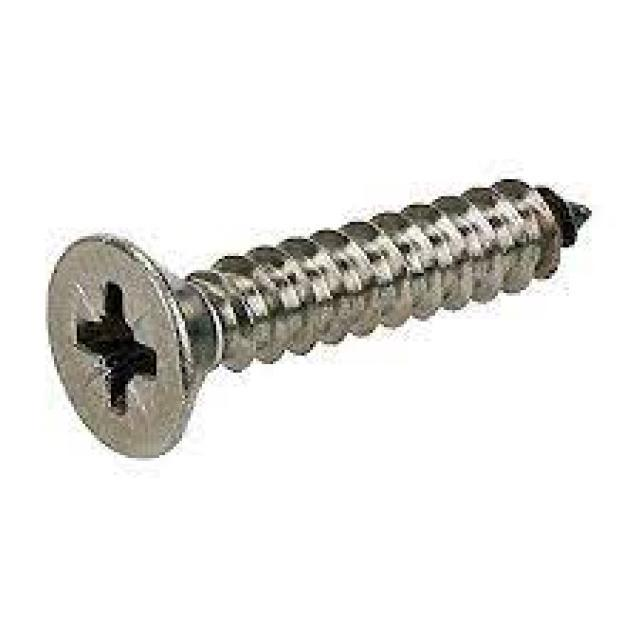Screw: (46, 179, 592, 461)
